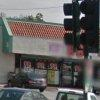traffic lights: (62, 1, 82, 52)
